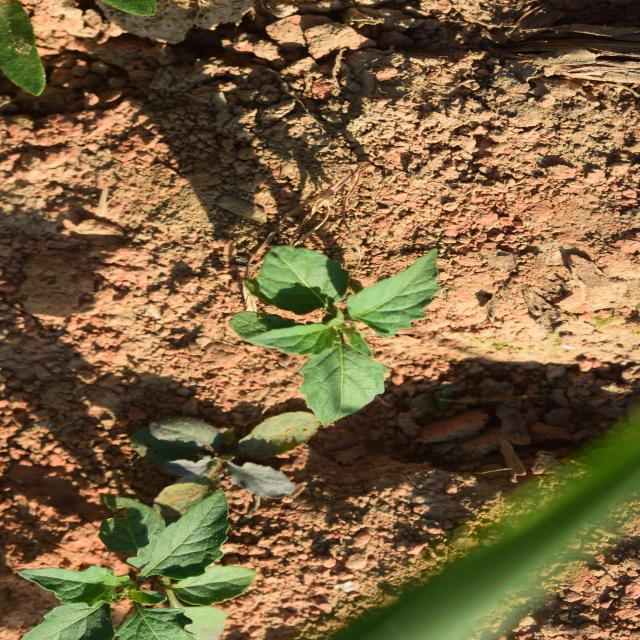Black_nightshade: (232, 232, 414, 457), (0, 33, 153, 246)
